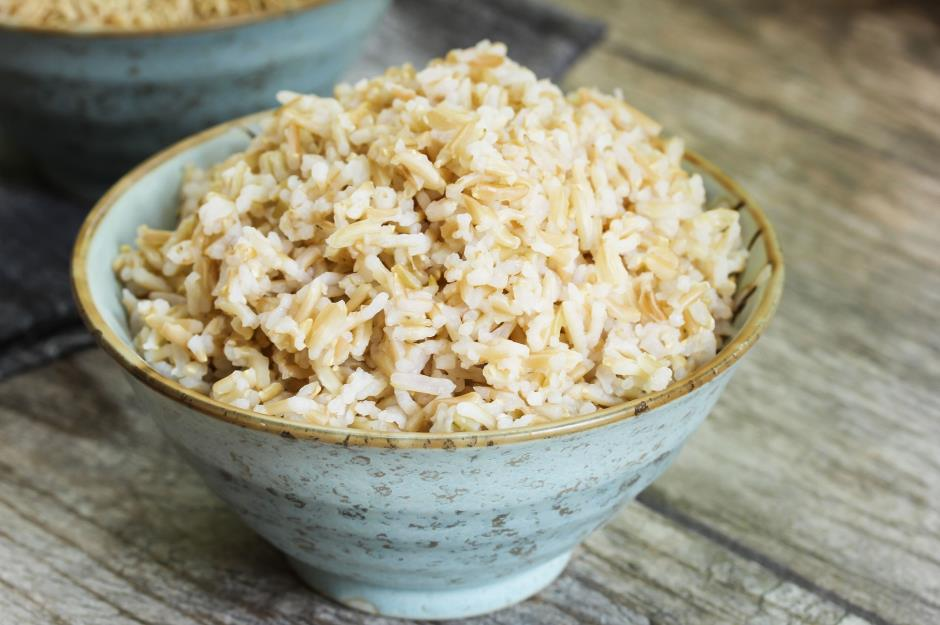plain rice: (265, 114, 670, 393)
